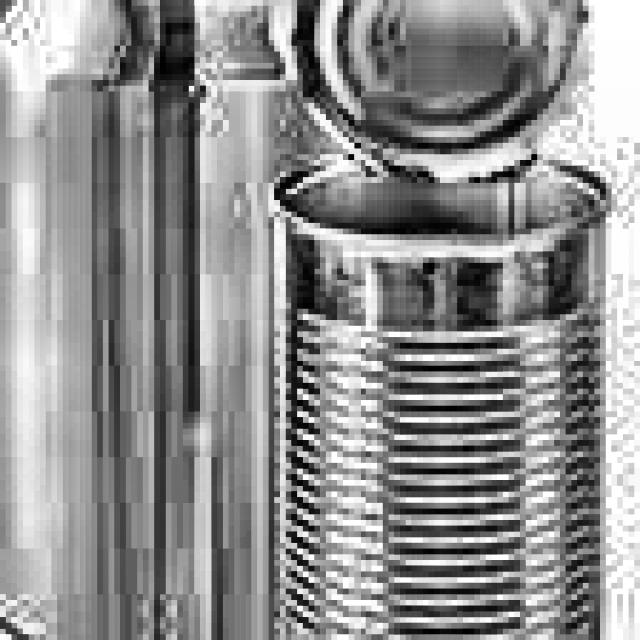metal: (0, 0, 371, 640), (263, 0, 611, 640)
